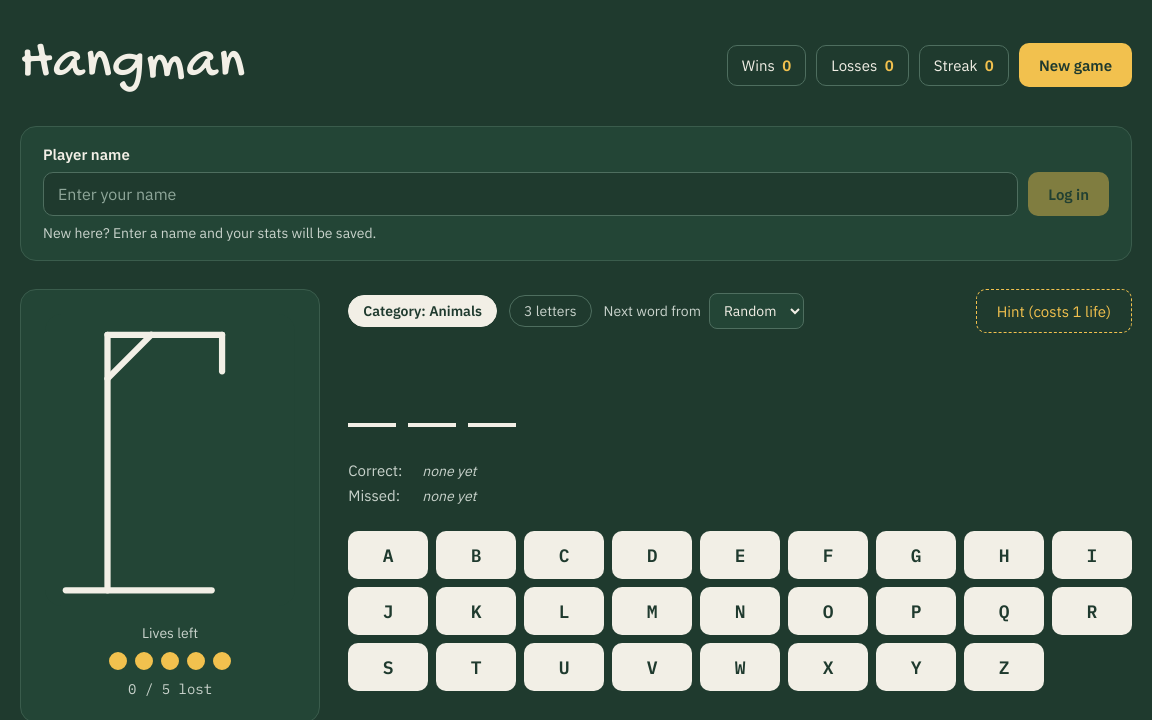
Test case: App — player login and stats › updates stats in React, then PUTs them when the player wins
This screenshot has width=1152, height=720.
Type "Brock" into the field labelled "Player name" at (531, 194), box [43, 172, 1018, 216]
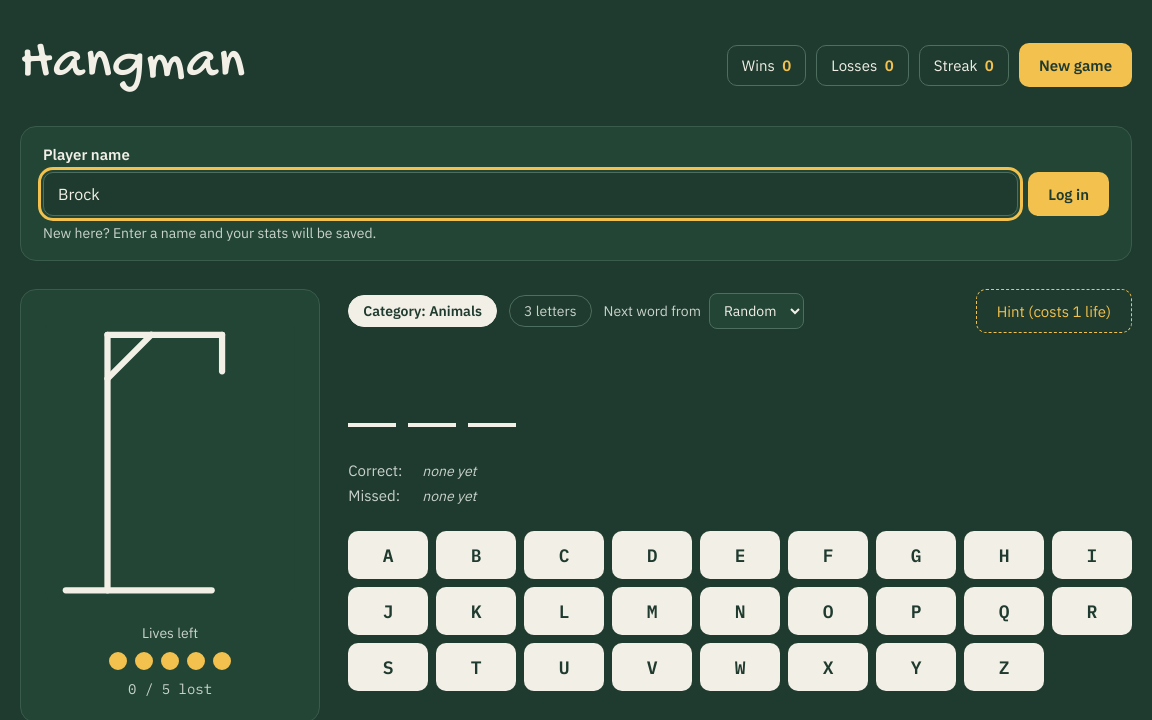
Click the button "Log in" at (1069, 194), box [1028, 172, 1109, 216]
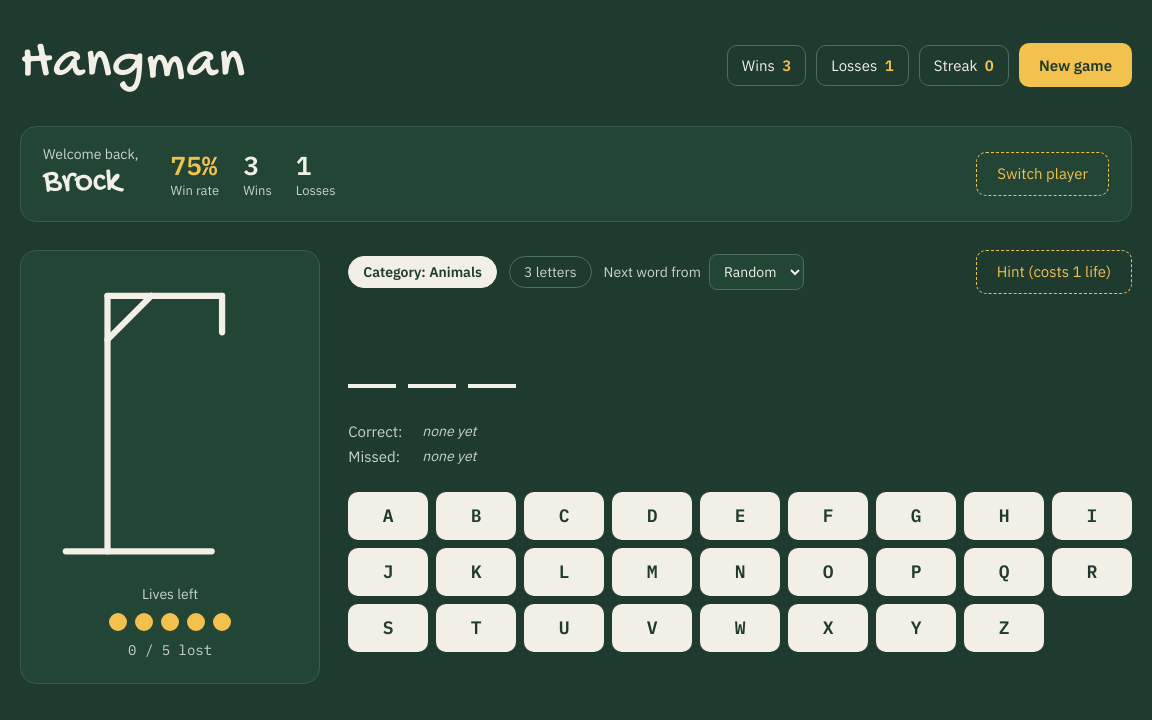
Check: the text "Brock" is shown, box [43, 161, 121, 204]
Click the button named "Guess C" at (564, 516), box [524, 492, 604, 540]
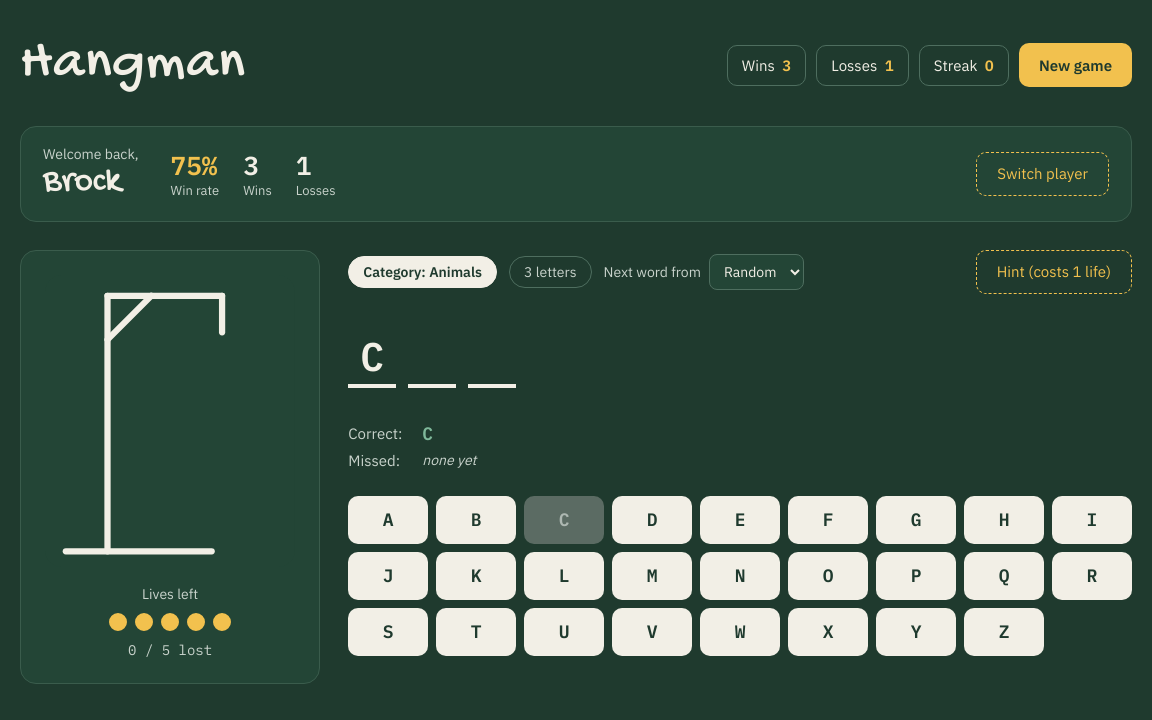
Click the button "A" at (388, 520), box [348, 496, 428, 544]
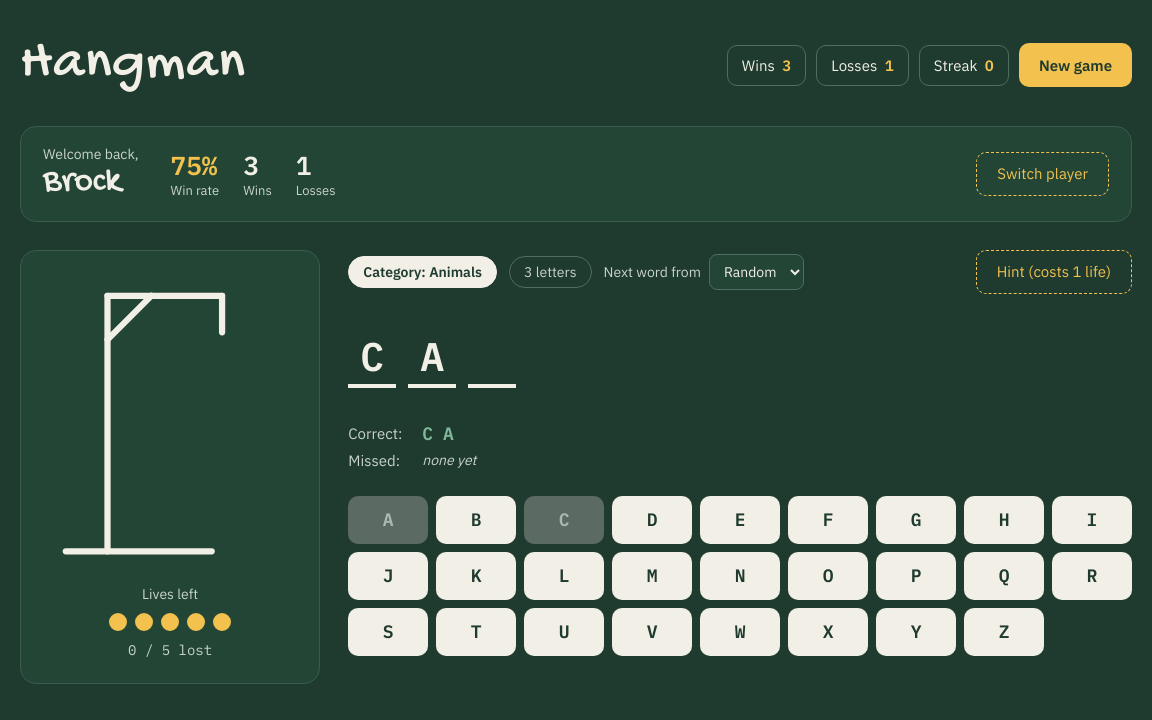
Click the button "T" at (476, 632), box [436, 608, 516, 656]
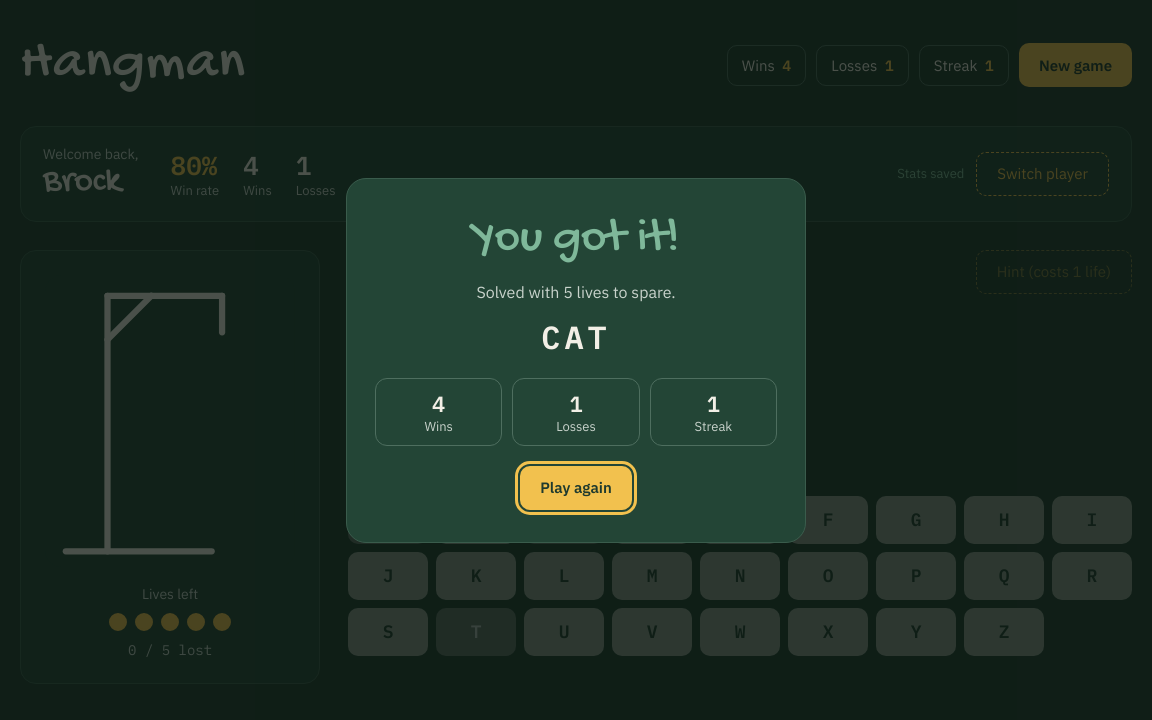
Check: the text with test id "win-percentage" reads "80%", box [171, 148, 219, 182]
Check: the text "Stats saved" is shown, box [897, 165, 964, 182]
